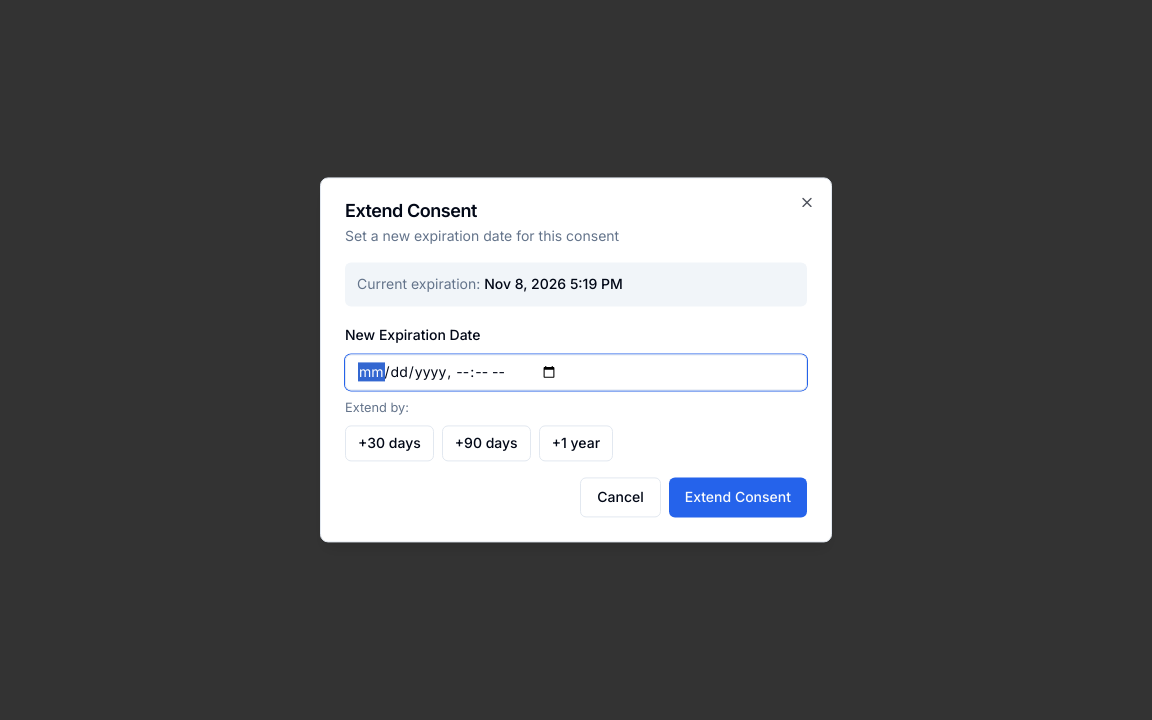
Test: ConsentExtendDialog › Validation › shows error when new date is in the past
In the field labelled "New Expiration Date": coordinates (576, 372) x1=345 y1=354 x2=807 y2=390, type "2023-01-01T00:00"
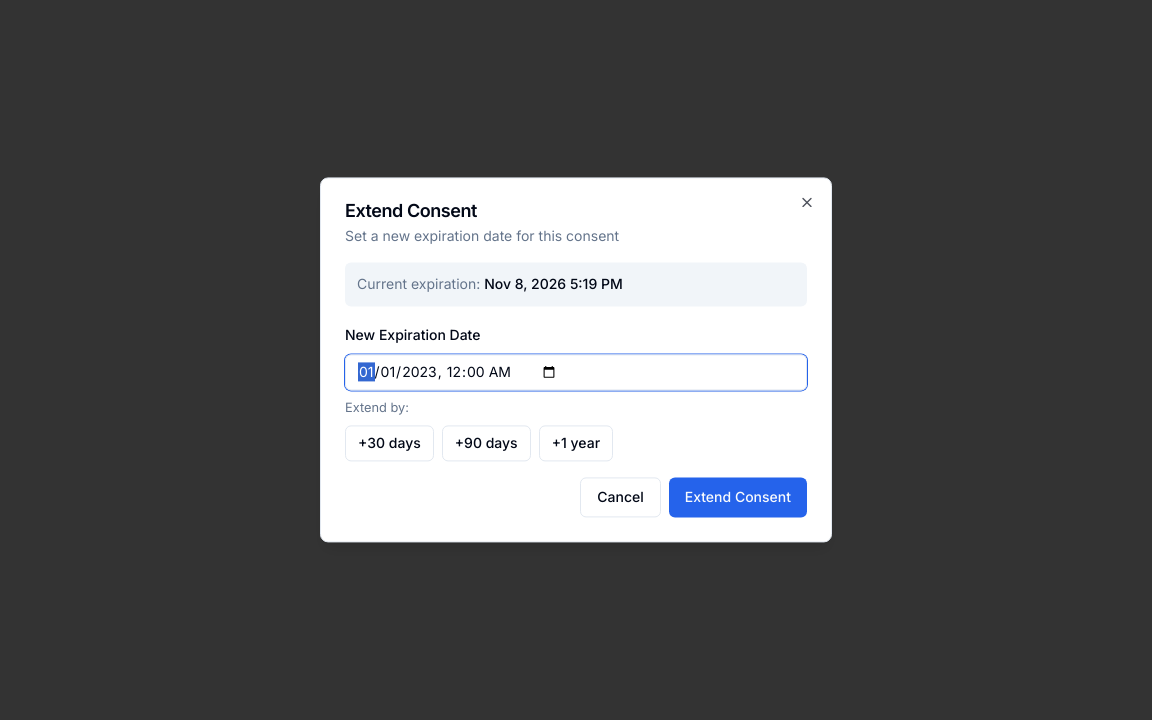
Click the button "Extend Consent": coordinates (738, 498) x1=669 y1=478 x2=807 y2=518
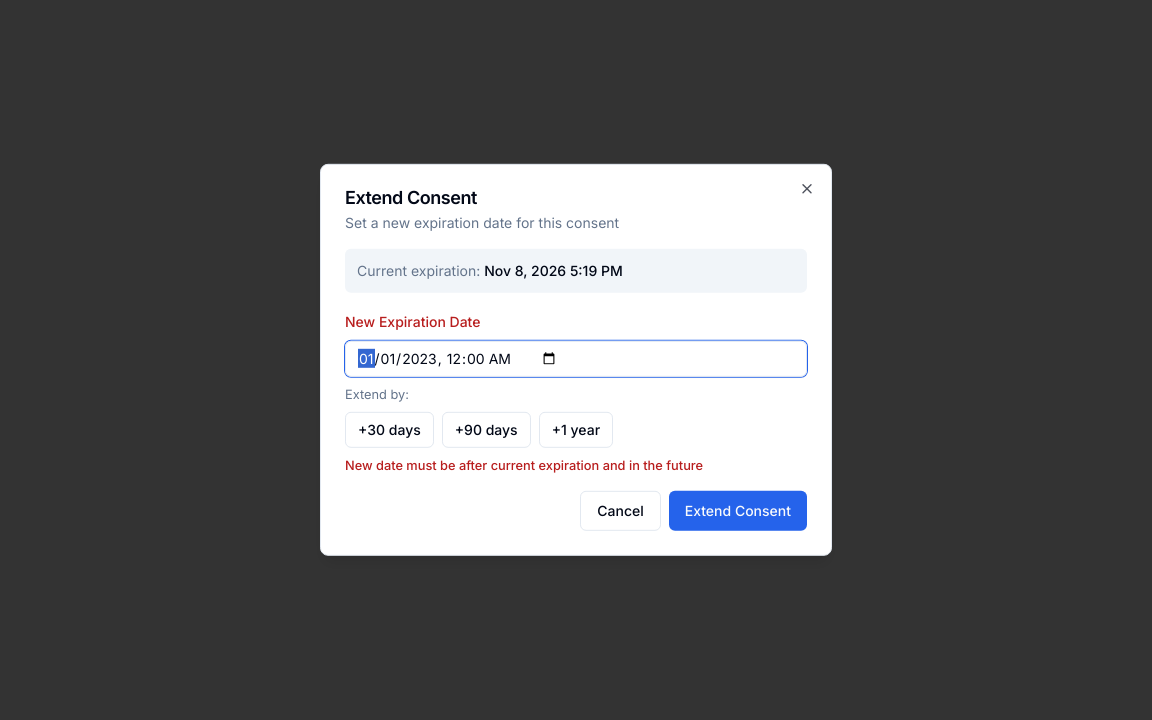
Now the text "New date must be after current expiration and in the future" is shown, box x1=345 y1=458 x2=703 y2=473
